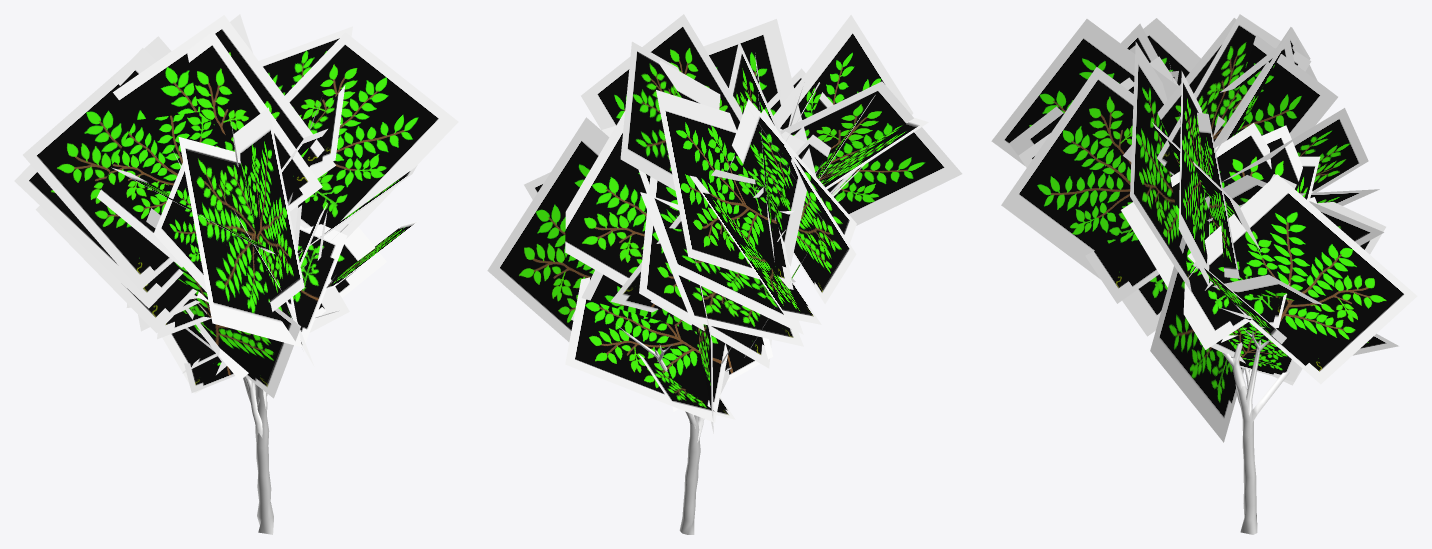
The model's file is tree_i.fbx.
The picture shows the model from 3 angles, left to right: view 1: azimuth 30°, elevation 25°; view 2: azimuth 150°, elevation 25°; view 3: azimuth 270°, elevation 25°; orthographic projection. The views are drawn at different scales.
Visible parts, largest first — view 1: tree_i; view 2: tree_i; view 3: tree_i.
Part boxes in pixels (bbox=[...]): tree_i: bbox=[14, 14, 458, 534]; tree_i: bbox=[487, 14, 962, 534]; tree_i: bbox=[991, 14, 1417, 534].
Bounding box in the file's own units: 21.82 × 28.92 × 22.5.
Materials: 2 (1 with a texture image).
